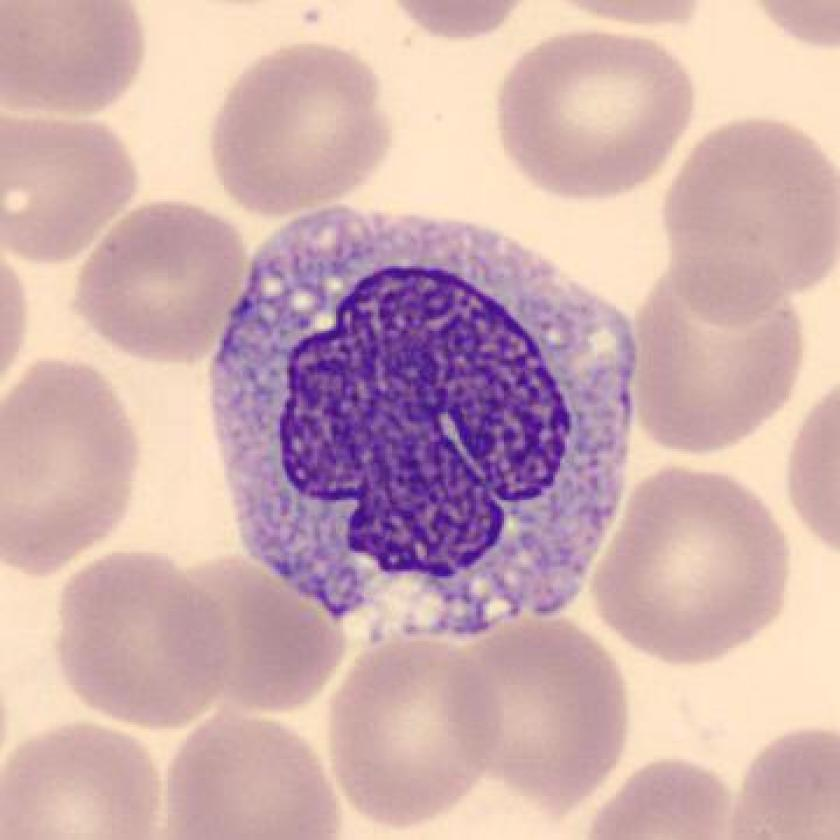monocyte: (195, 191, 659, 649)
